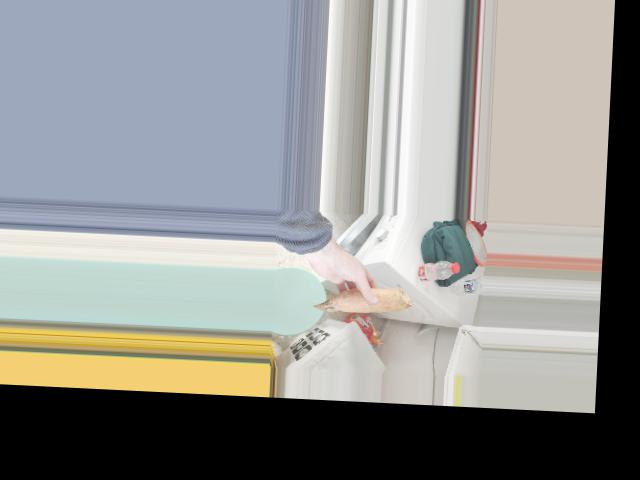sweet_potato: (315, 278, 403, 314)
